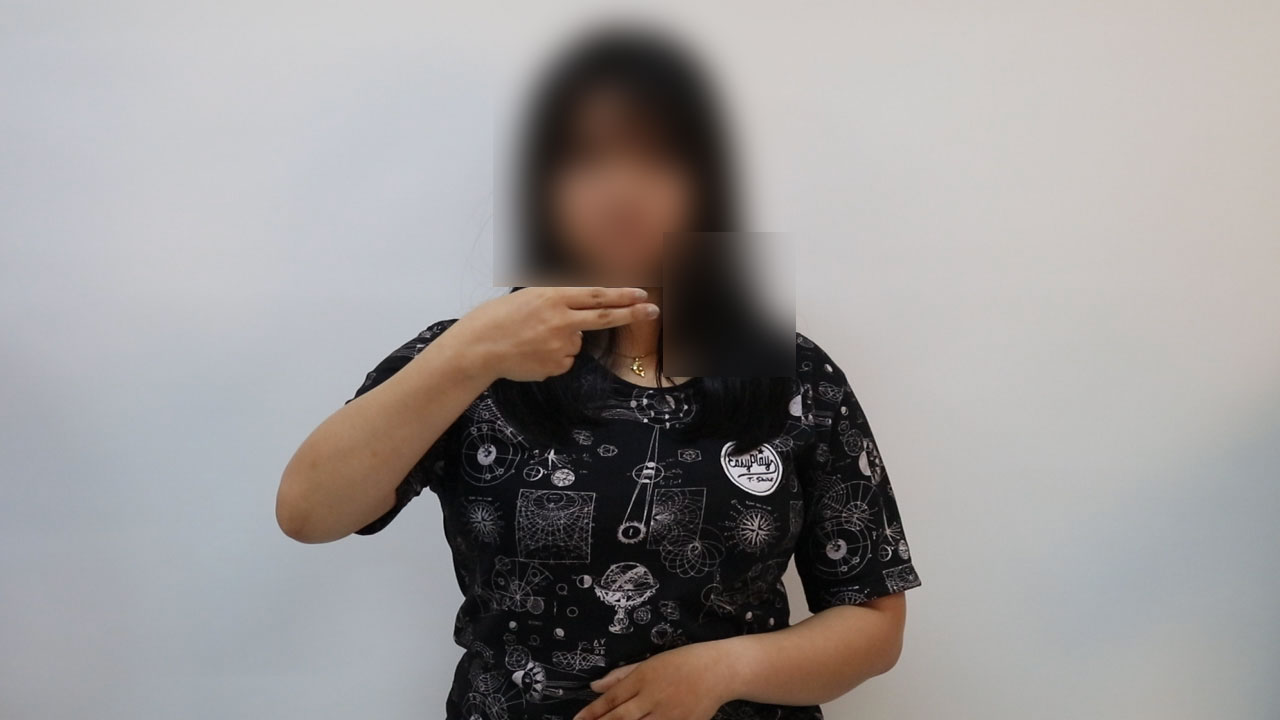hor: (455, 275, 673, 391)
